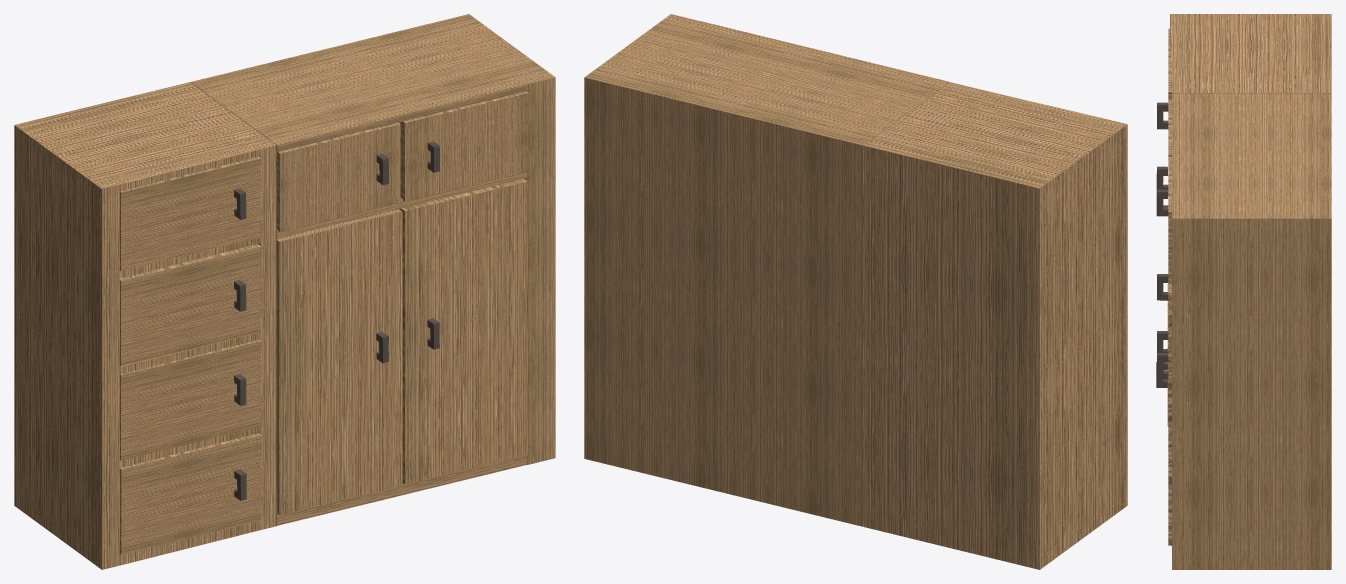
The model's file is wardrobe.fbx.
3 renders of one model, left to right at view 1: azimuth 30°, elevation 25°; view 2: azimuth 150°, elevation 25°; view 3: azimuth 270°, elevation 25°, orthographic. The views are drawn at different scales.
Visible parts, largest first — view 1: шкаф 1, шкаф 2, дверца 7, дверца 8, ручка дверцы 3, ручка дверцы 1, ручка дверцы 2, ручка дверцы 4, дверца 6, ручка дверцы 5; view 2: шкаф 2, шкаф 1; view 3: шкаф 2, шкаф 1, дверца 7, дверца 6, ручка дверцы 4, ручка дверцы 5, ручка дверцы 1, ручка дверцы 2.
Boxes of the visible parts, <box> form: шкаф 1: <box>14,82,276,569</box>; шкаф 2: <box>190,14,555,525</box>; дверца 7: <box>399,178,528,484</box>; дверца 8: <box>276,209,402,515</box>; ручка дверцы 3: <box>120,244,261,365</box>; ручка дверцы 1: <box>120,433,261,554</box>; ручка дверцы 2: <box>120,339,261,460</box>; ручка дверцы 4: <box>120,156,261,270</box>; дверца 6: <box>398,91,528,201</box>; ручка дверцы 5: <box>276,122,400,232</box>; шкаф 2: <box>584,14,949,526</box>; шкаф 1: <box>863,82,1127,569</box>; шкаф 2: <box>1171,93,1331,569</box>; шкаф 1: <box>1170,14,1331,93</box>; дверца 7: <box>1157,284,1171,545</box>; дверца 6: <box>1156,156,1171,284</box>; ручка дверцы 4: <box>1157,28,1171,129</box>; ручка дверцы 5: <box>1156,100,1171,192</box>; ручка дверцы 1: <box>1156,284,1168,425</box>; ручка дверцы 2: <box>1157,274,1168,300</box>.
Size of the model in its own units: 370 by 296 by 134.
